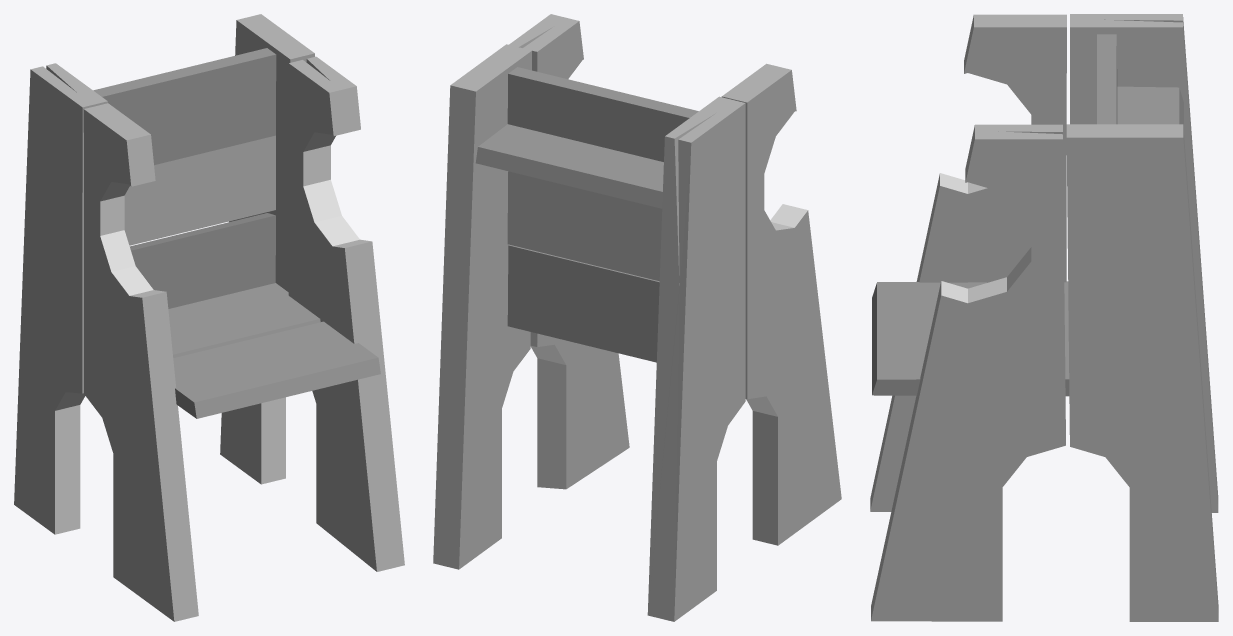
File: PT_Church_Chair_01.fbx
The picture shows the model from 3 angles, left to right: view 1: azimuth 30°, elevation 25°; view 2: azimuth 150°, elevation 25°; view 3: azimuth 270°, elevation 25°; orthographic projection. The views are drawn at different scales.
Visible parts, largest first — view 1: PT_Church_Chair_01; view 2: PT_Church_Chair_01; view 3: PT_Church_Chair_01.
Boxes of the visible parts, x1,y1,x2,y2 form: PT_Church_Chair_01: (14,14,404,621); PT_Church_Chair_01: (433,14,841,621); PT_Church_Chair_01: (870,14,1218,621).
Bounding box in the file's own units: 58.04 × 107 × 69.86.
